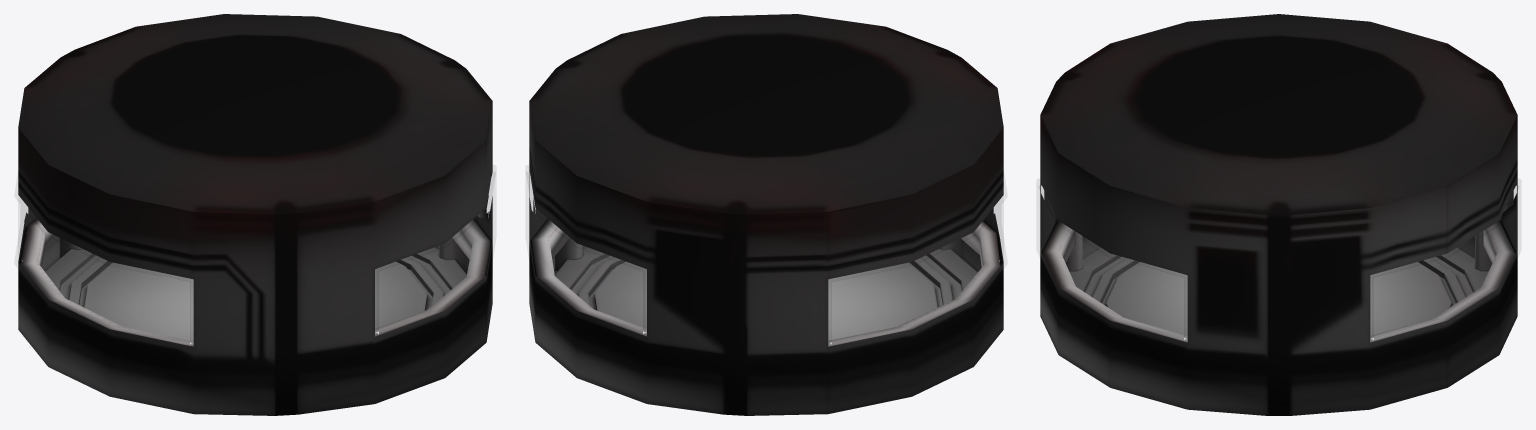
The model's file is environment1.glb.
3 views of the same model, side by side, from view 1: azimuth 30°, elevation 25°; view 2: azimuth 150°, elevation 25°; view 3: azimuth 270°, elevation 25° (orthographic).
Visible parts, largest first — view 1: Room.005; view 2: Room.005; view 3: Room.005.
Part boxes in pixels (x1,y1,x2,y2): Room.005: [18, 14, 495, 415]; Room.005: [526, 14, 1003, 415]; Room.005: [1038, 14, 1519, 415].
Bounding box in the file's own units: 10.79 × 5.46 × 10.94.
3 materials, 3 textured.
